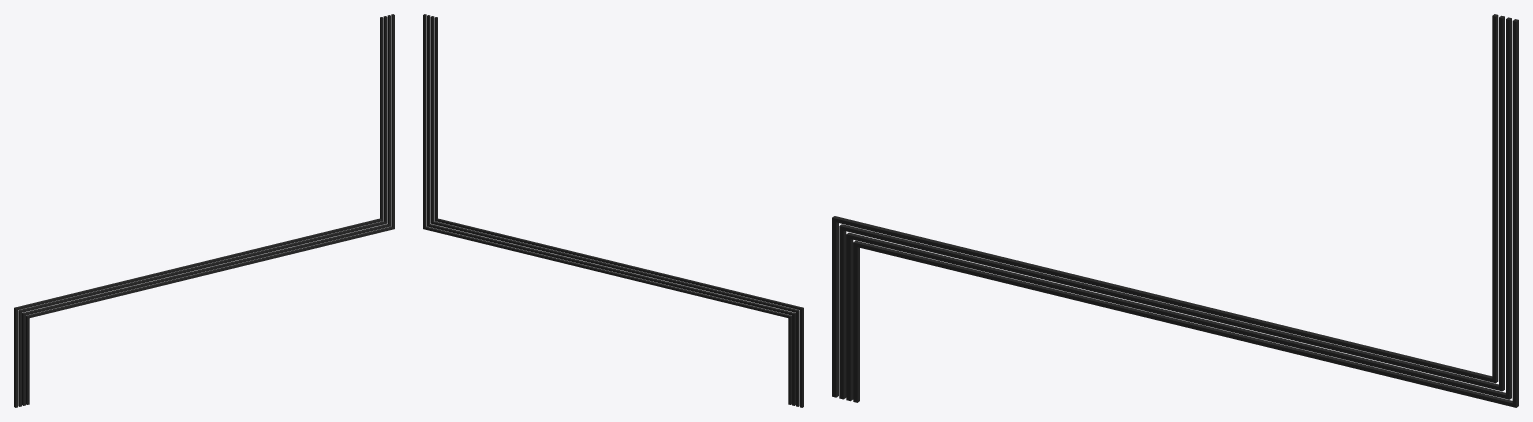
Rendered from WallDecor_05.fbx.
3 renders of one model, left to right at view 1: azimuth 30°, elevation 25°; view 2: azimuth 150°, elevation 25°; view 3: azimuth 330°, elevation 25°, orthographic. The views are drawn at different scales.
Parts seen in each view (by area): view 1: WallDecor_05; view 2: WallDecor_05; view 3: WallDecor_05.
Boxes of the visible parts, box(x1,y1,x2,y2) form: WallDecor_05: box(14, 14, 394, 407); WallDecor_05: box(423, 14, 803, 407); WallDecor_05: box(832, 14, 1518, 407).
Size of the model in its own units: 502 by 380 by 3.15.
